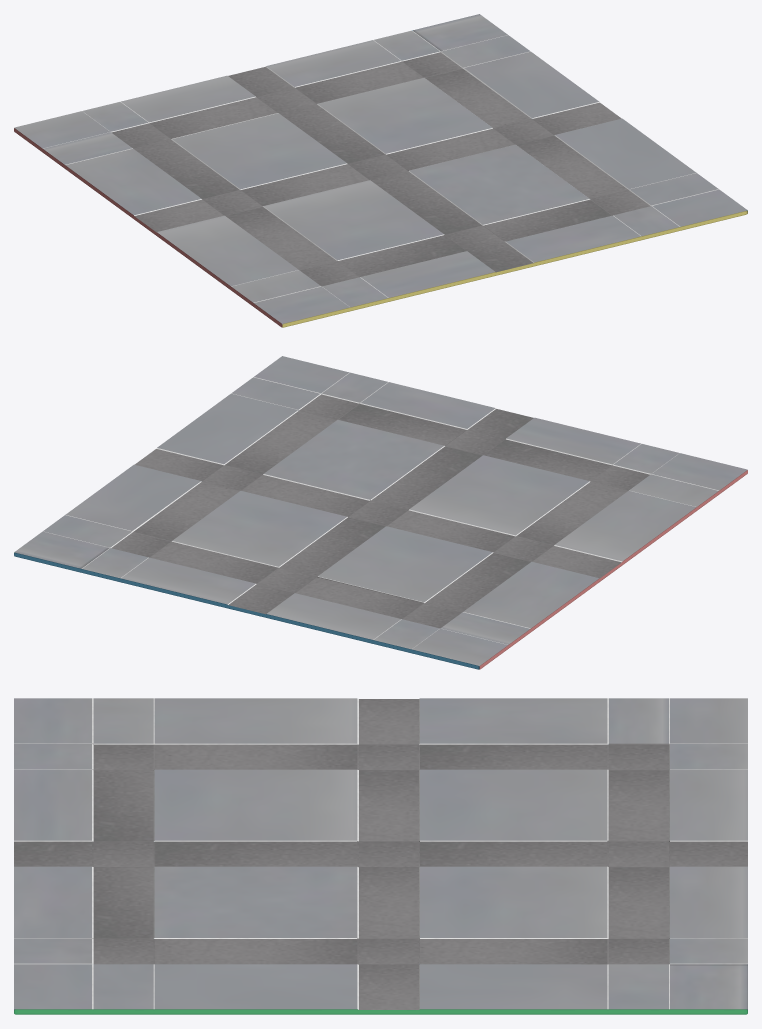
The model's file is StreetBaseFull.fbx.
3 renders of one model, top to bottom at view 1: azimuth 30°, elevation 25°; view 2: azimuth 150°, elevation 25°; view 3: azimuth 270°, elevation 25°, orthographic. The views are drawn at different scales.
Visible parts, largest first — view 1: mesh; view 2: mesh; view 3: mesh.
Part boxes in pixels (x1,y1,x2,y2): mesh: (14,14,747,327); mesh: (14,356,747,669); mesh: (14,698,747,1014).
Bounding box in the file's own units: 773 × 6.25 × 772.
Materials: 1 (1 with a texture image).
